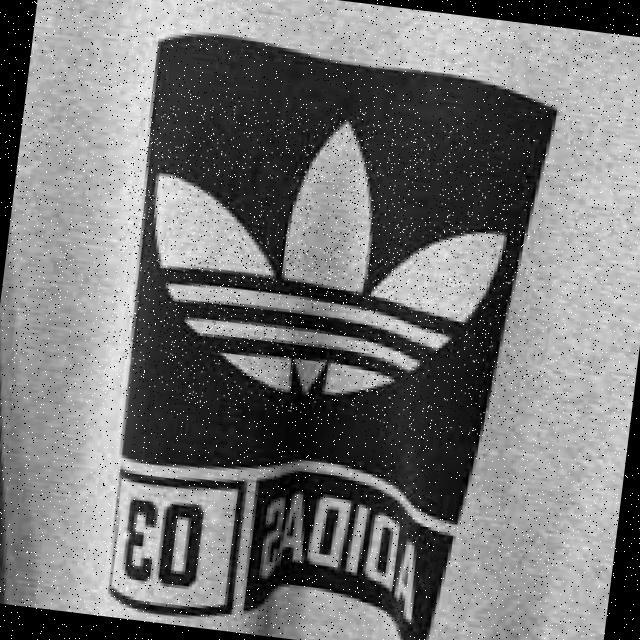Adidas: (101, 84, 537, 441)
